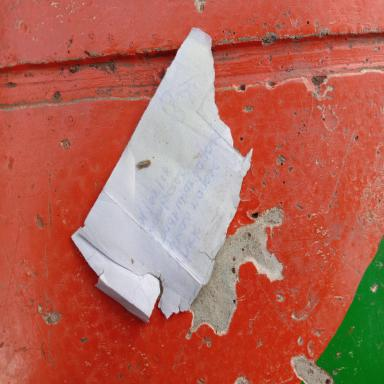pbw: (136, 158, 151, 169)
